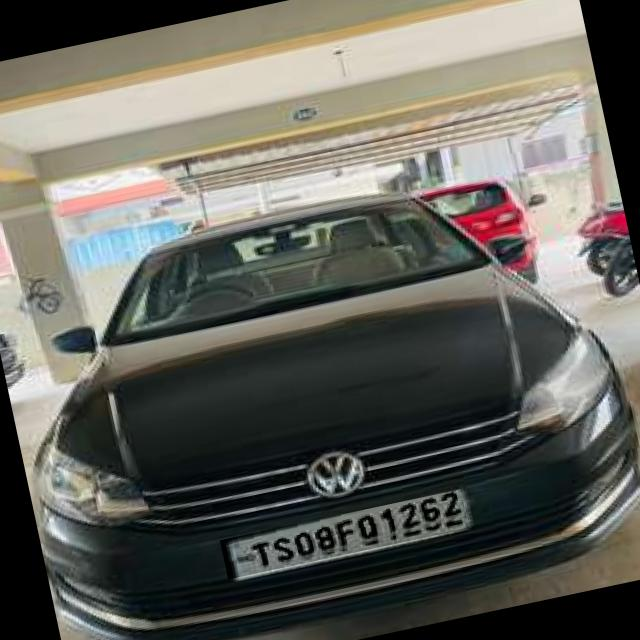Plate: (221, 490, 470, 580)
